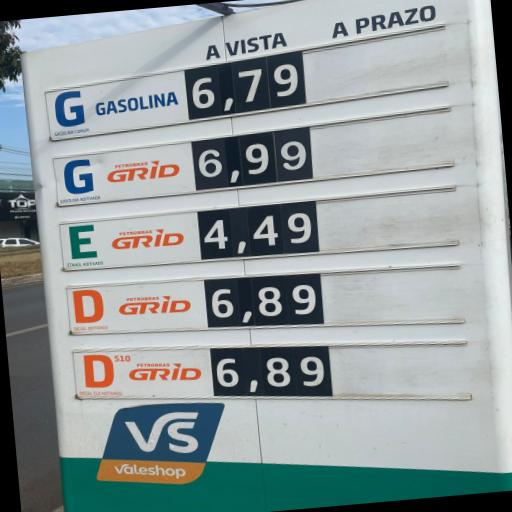ETANOL: (66, 219, 200, 272)
GASOLINA AD: (54, 148, 193, 202)
GASOLINA C: (50, 75, 186, 143)
S10: (71, 349, 212, 403)
S500: (68, 283, 205, 338)
placa: (27, 5, 364, 463)
preco: (184, 53, 303, 120), (191, 126, 311, 190), (196, 202, 318, 258), (213, 348, 335, 397), (204, 277, 326, 324)
